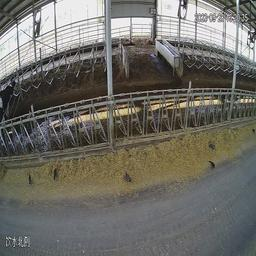cow: (1, 77, 19, 120)
